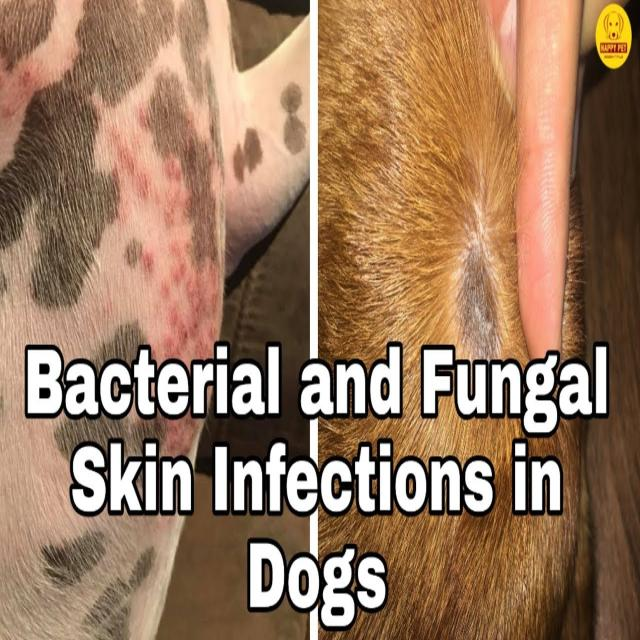fungal infection: (93, 98, 223, 338), (452, 234, 504, 352), (0, 37, 58, 111)
